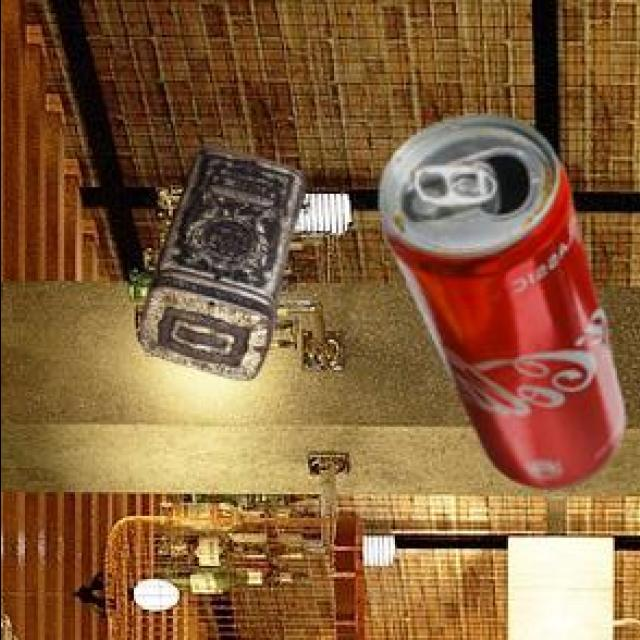logam: (376, 112, 619, 484), (136, 145, 301, 376)
